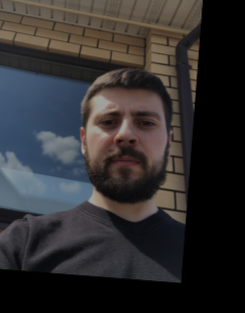without_mask: (87, 103, 167, 204)
